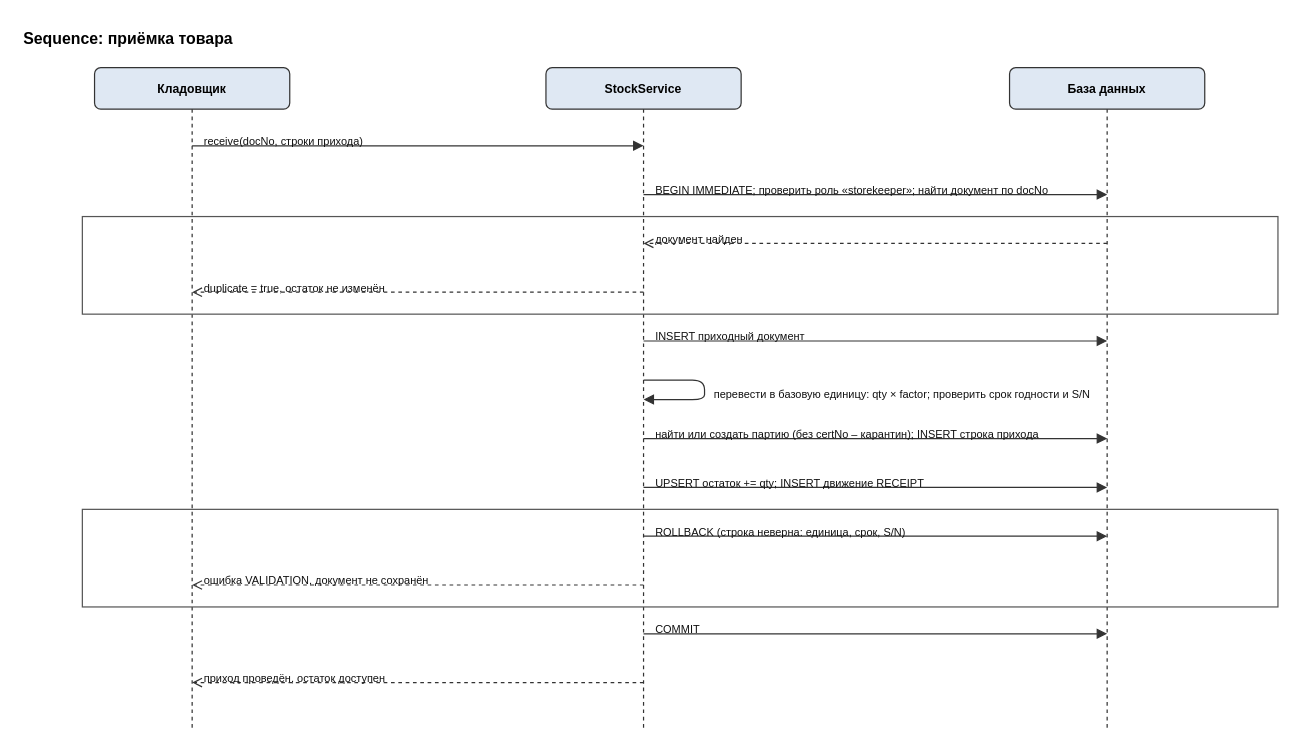
The diagram is 1299 pixels wide and 754 high, and some of its shapes have lost their labels. The box of each missing label's shape, as (x1, y1, x2, y2) in pixels:
opt [документ с этим номером уже проведён]: (81, 215, 1278, 314)
opt [строка документа неверна]: (81, 508, 1278, 607)
